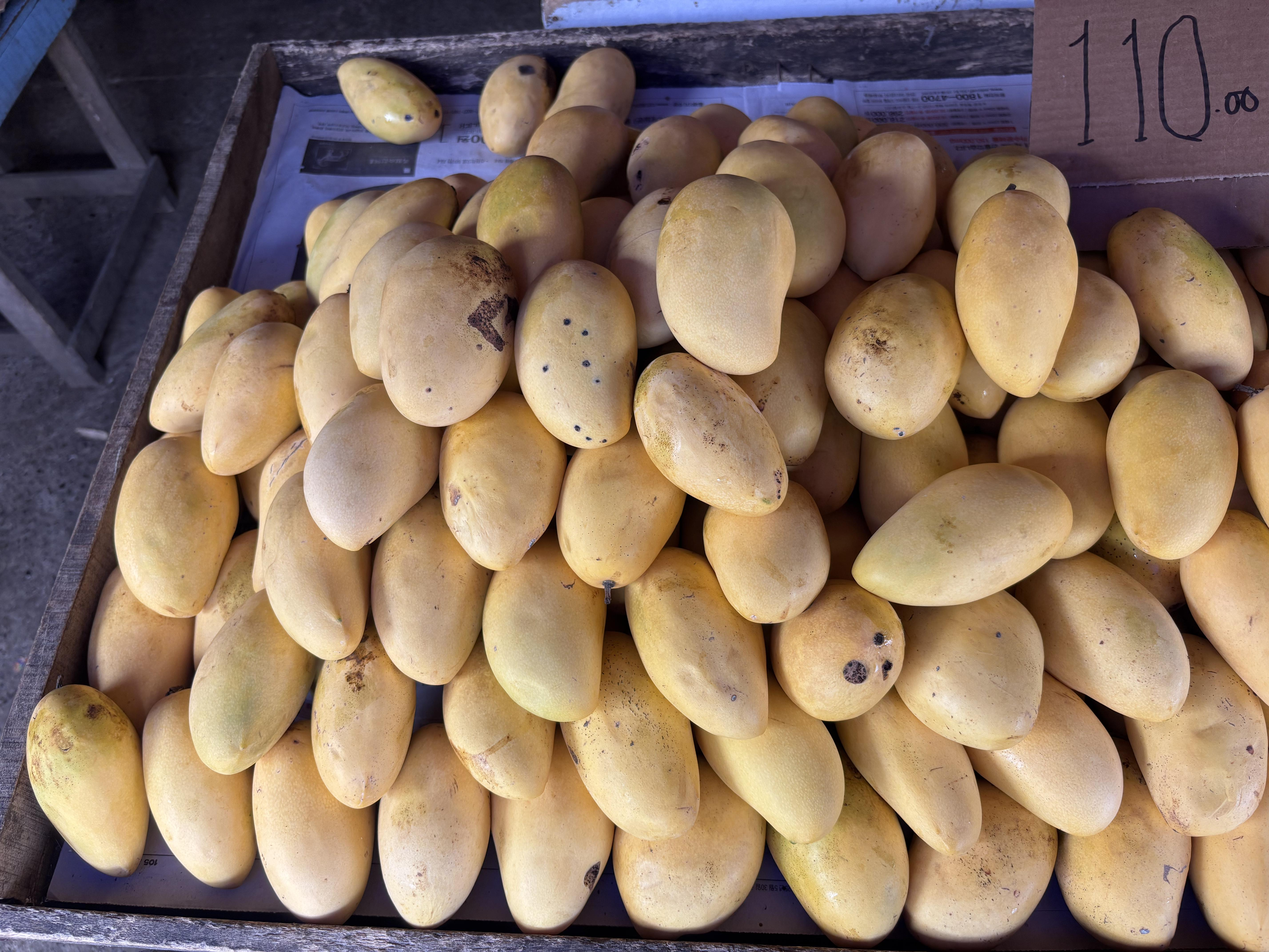mango: (852, 463, 1073, 606), (655, 174, 795, 374), (380, 235, 518, 427), (1105, 369, 1239, 560), (634, 353, 789, 516), (956, 190, 1078, 397), (824, 274, 967, 440), (26, 684, 149, 876), (515, 260, 637, 448), (337, 57, 441, 144)
occluded: (1016, 552, 1190, 722), (562, 632, 700, 840), (1125, 634, 1266, 836), (621, 547, 768, 739), (1056, 740, 1191, 949), (613, 759, 766, 938), (1107, 208, 1253, 390), (904, 779, 1058, 949), (767, 766, 908, 948), (694, 674, 844, 843), (491, 728, 614, 934), (969, 673, 1123, 836), (836, 686, 982, 855), (253, 721, 375, 923), (187, 590, 319, 774), (371, 488, 493, 685), (483, 530, 606, 721), (896, 591, 1043, 750), (303, 382, 441, 550), (114, 432, 238, 618), (142, 688, 257, 888), (378, 724, 490, 928), (438, 391, 565, 570), (556, 427, 685, 592), (150, 289, 293, 433), (263, 470, 371, 660), (719, 140, 845, 297), (311, 624, 416, 808), (771, 579, 905, 722), (997, 395, 1114, 558), (442, 638, 555, 799), (87, 567, 195, 734), (703, 483, 830, 623), (1180, 509, 1269, 705), (319, 178, 457, 299), (734, 299, 828, 475), (349, 223, 449, 379), (833, 132, 936, 281), (477, 156, 583, 300), (202, 322, 301, 475), (858, 404, 969, 532), (293, 293, 383, 444), (1041, 267, 1140, 402), (1190, 793, 1269, 952), (948, 154, 1069, 251), (607, 188, 679, 348), (252, 429, 311, 593), (527, 105, 628, 200), (865, 123, 958, 226), (193, 530, 258, 668), (1089, 514, 1184, 607), (305, 190, 384, 301), (627, 115, 721, 204), (791, 401, 862, 516), (479, 54, 556, 156), (739, 115, 842, 179), (546, 48, 635, 121), (799, 263, 871, 338), (1218, 249, 1269, 350), (786, 96, 858, 156), (1237, 391, 1269, 522), (950, 350, 1006, 419), (581, 197, 633, 267), (824, 499, 870, 578), (181, 286, 239, 344), (691, 104, 752, 155), (908, 249, 957, 303), (304, 198, 346, 255), (274, 279, 315, 326), (453, 184, 489, 237), (237, 459, 267, 522), (443, 172, 487, 211), (1241, 247, 1269, 296), (967, 145, 1029, 167), (851, 115, 876, 140), (1203, 766, 1203, 767)
